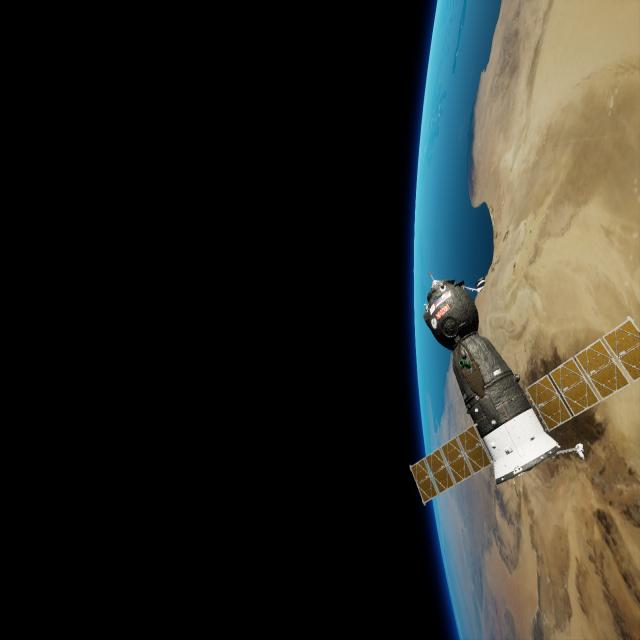Satellites revolving around earth: (409, 1, 639, 638)
